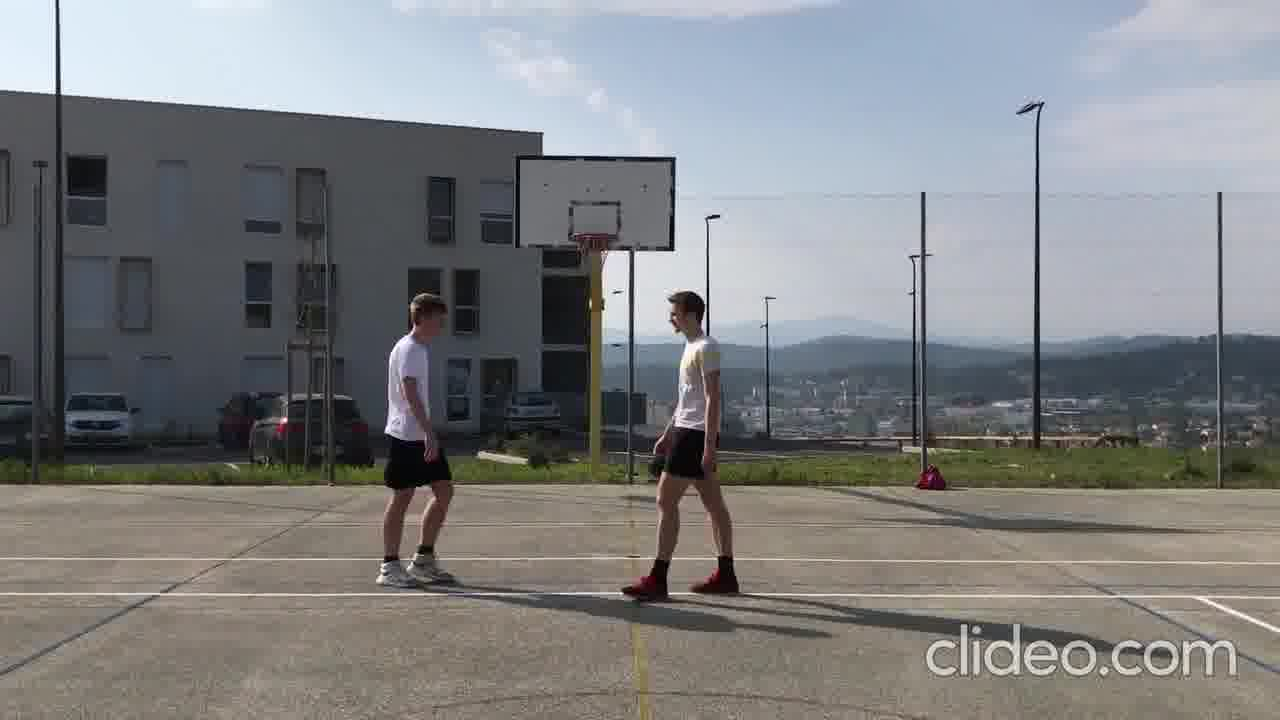jugador: (606, 278, 751, 615)
